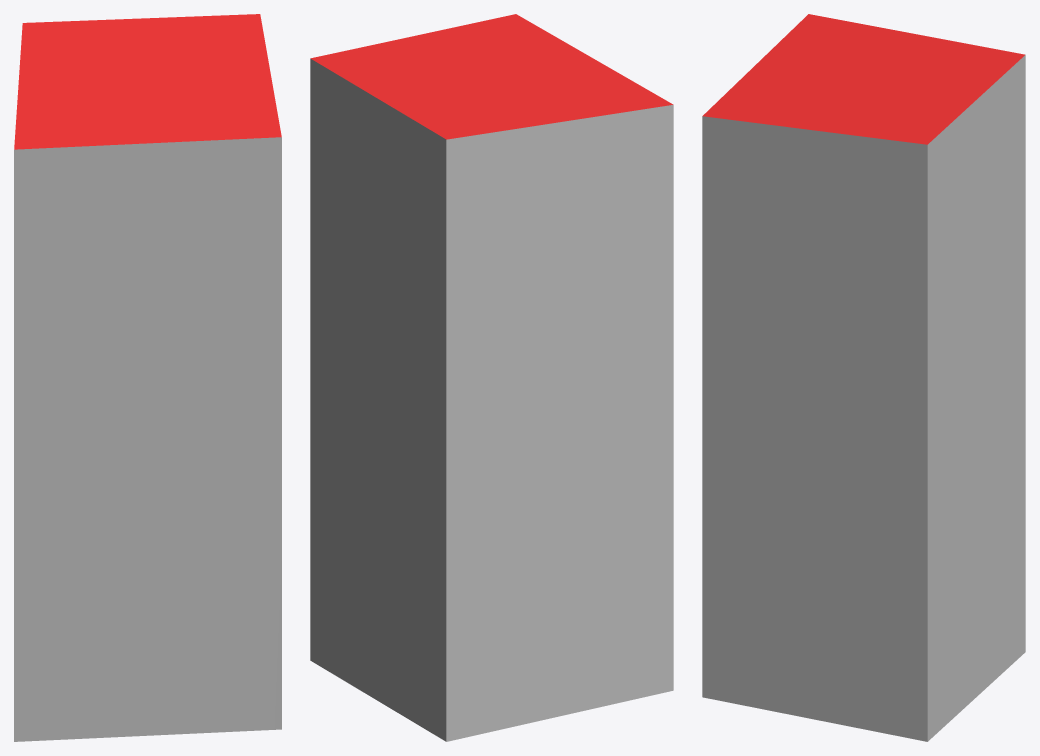
The model's file is DEBY_LOD2_4908152.dae.
3 renders of one model, left to right at view 1: azimuth 30°, elevation 25°; view 2: azimuth 150°, elevation 25°; view 3: azimuth 270°, elevation 25°, orthographic.
Size of the model in its own units: 5.46 by 5.08 by 10.36.
